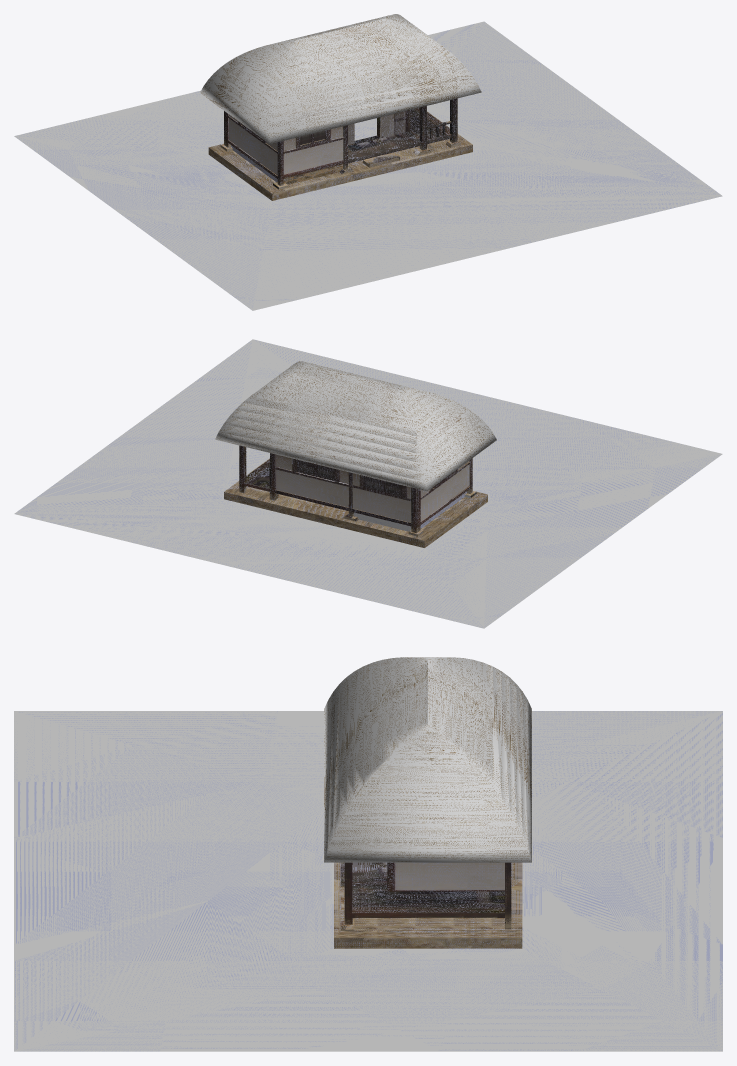
3 views of the same model, one above another, from view 1: azimuth 30°, elevation 25°; view 2: azimuth 150°, elevation 25°; view 3: azimuth 270°, elevation 25° (orthographic). The views are drawn at different scales.
Parts seen in each view (by area): view 1: SketchUp (×2), group_1, group_0; view 2: SketchUp (×2), group_1, group_0; view 3: SketchUp (×2), group_1, group_0 (×2).
Part boxes in pixels (bbox=[...]): SketchUp (×2): bbox=[14, 21, 722, 310]; group_1: bbox=[200, 14, 481, 143]; group_0: bbox=[220, 98, 457, 189]; SketchUp (×2): bbox=[14, 339, 722, 628]; group_1: bbox=[215, 361, 496, 491]; group_0: bbox=[239, 445, 476, 536]; SketchUp (×2): bbox=[14, 711, 722, 1051]; group_1: bbox=[324, 657, 531, 862]; group_0 (×2): bbox=[344, 862, 511, 929].
Bounding box in the file's own units: 691 × 608 × 174.
